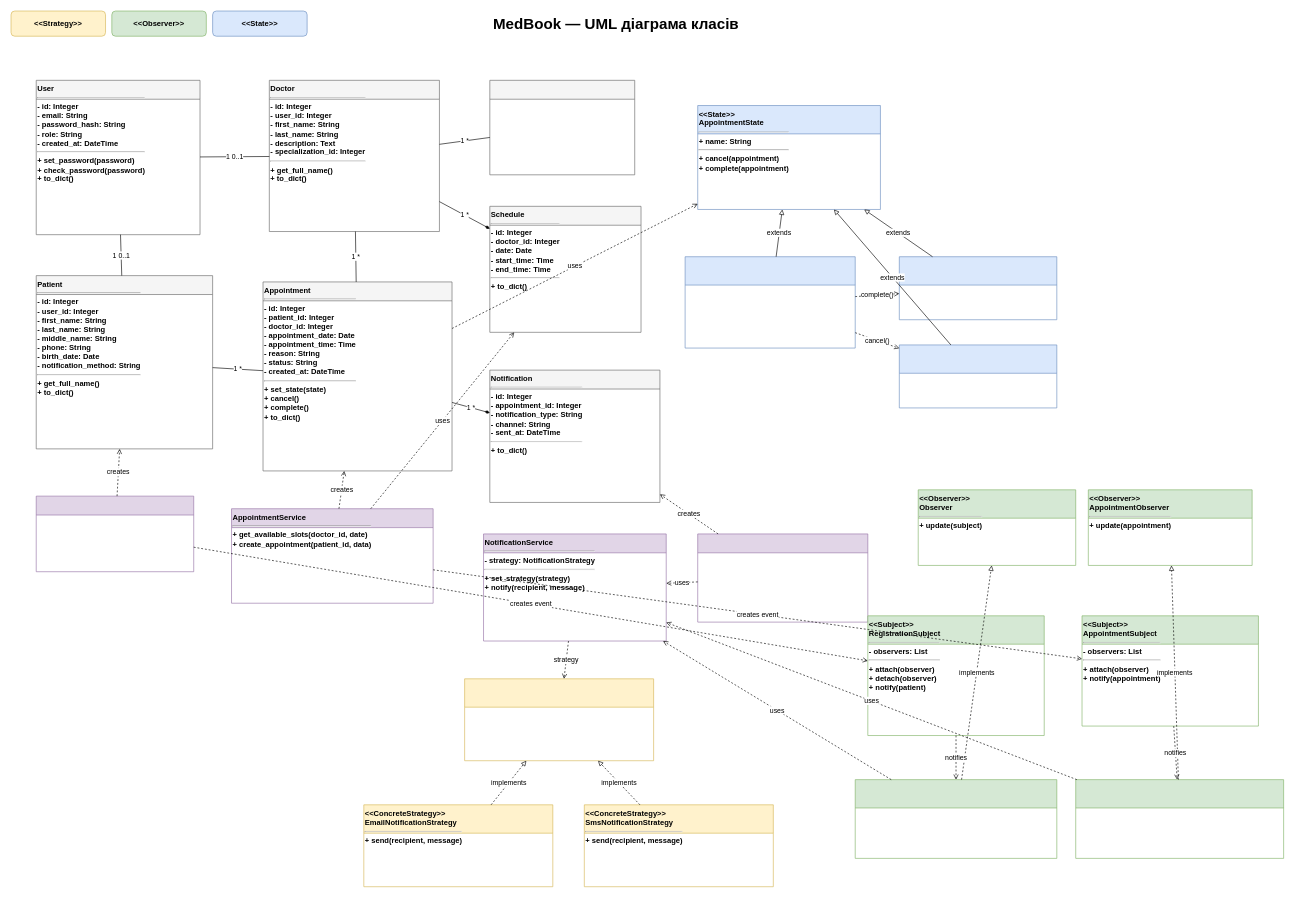
Some shapes in this 1295 by 898 pixel diagram are drawn without their labels. The centre of each missing label's shape, as x and y in pixels:
<<ConcreteObserver>> AppointmentNotificationObserver + update(appointment): the point at 1179,818
<<ConcreteObserver>> RegistrationNotificationObserver + update(patient): the point at 956,818
<<ConcreteState>> CancelledState: the point at 978,376
<<ConcreteState>> CompletedState: the point at 978,288
<<ConcreteState>> ScheduledState + cancel(appointment) + complete(appointment): the point at 769,302
<<Strategy>> NotificationStrategy + send(recipient, message): the point at 559,719
AuthService + register_patient(data): the point at 115,533
ReminderService + process_reminders() + send_reminder(appointment): the point at 782,577
Specialization - id: Integer - name: String + to_dict(): the point at 562,127
